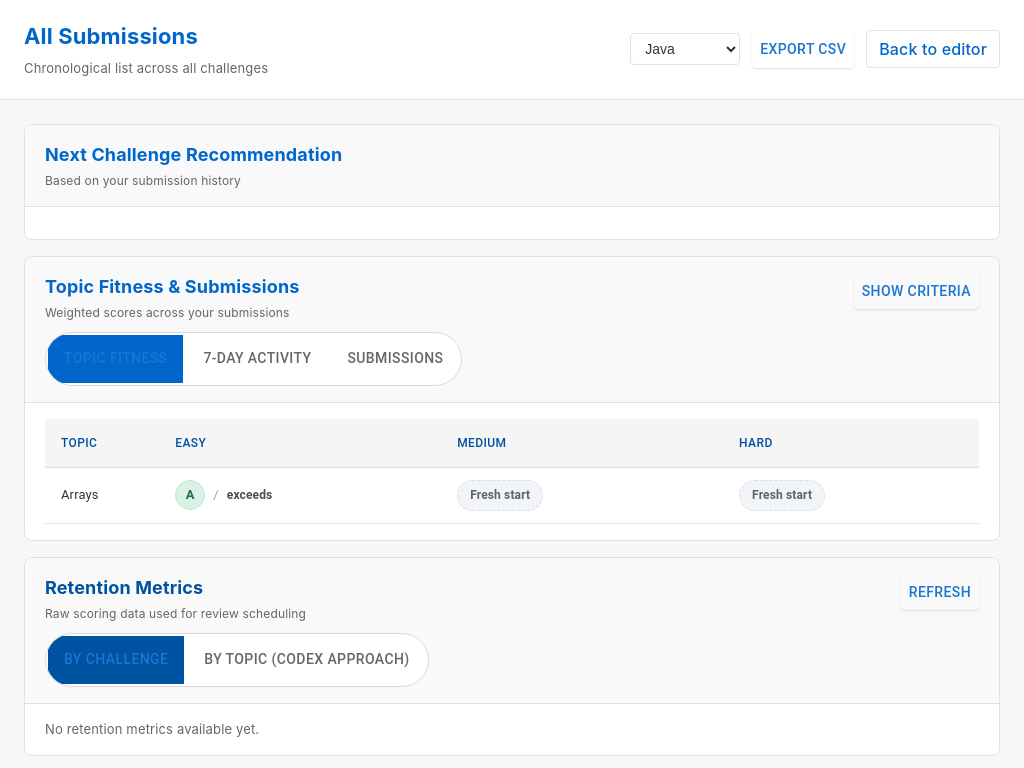
Scenario: SubmissionsPage › shows topic fitness grade popover with submissions and avg timer time
This screenshot has width=1024, height=768.
Step 1. Hover over the text "A" → (190, 495), box [175,480,205,510]
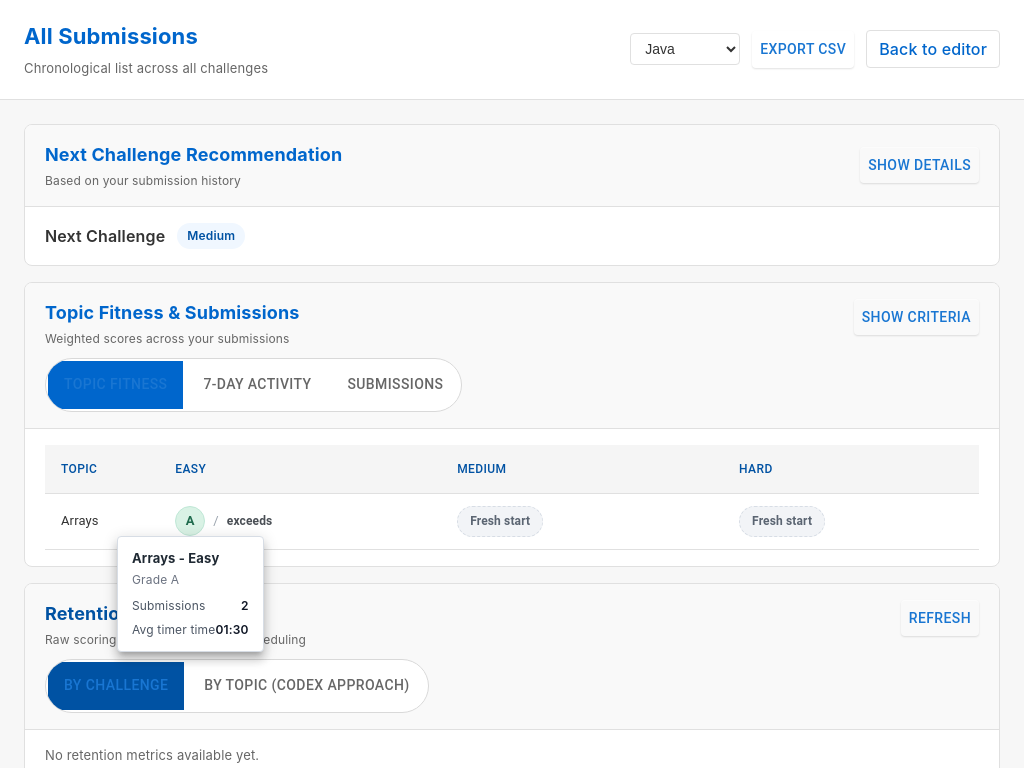
Now the text "Avg timer time" is shown, box [132,620,215,638]
Now the text "01:30" is shown, box [215,620,248,638]
Now the element with class "topic-fitness-grade-popover" is shown, box [117,536,264,652]
